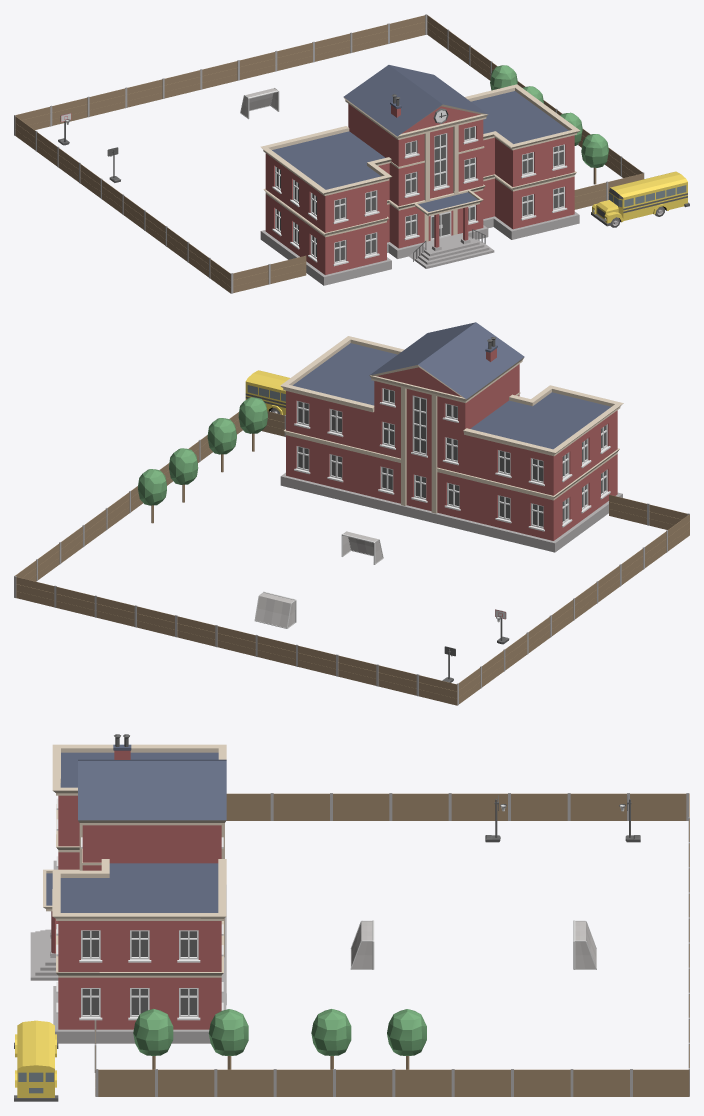
File: School.fbx
The picture shows the model from 3 angles, top to bottom: view 1: azimuth 30°, elevation 25°; view 2: azimuth 150°, elevation 25°; view 3: azimuth 270°, elevation 25°; orthographic projection. The views are drawn at different scales.
Visible parts, largest first — view 1: building-school (1), bus-school-base, tree-round (15), fence-big (29), fence-big (27), fence-big (41), fence-big (20), fence-big (22), fence-big (26), fence-big (21), fence-big (23), fence-big (24) (+20 smaller); view 2: building-school (1), bus-school-base, soccer-gate, tree-round (16), tree-round (18), tree-round (15), tree-round (17), fence-big (31), fence-big (41), fence-big (24), fence-big (27), fence-big (28) (+9 smaller); view 3: building-school (1), bus-school-base, fence-big (8), fence-big (11), fence-big (12), fence-big (36), fence-big (35), fence-big (33), fence-big (10), fence-big (19), fence-big (13), fence-big (15) (+14 smaller).
Boxes of the visible parts, bbox=[...] form: building-school (1): bbox=[260, 65, 580, 285]; bus-school-base: bbox=[591, 171, 689, 226]; tree-round (15): bbox=[581, 134, 608, 184]; fence-big (29): bbox=[89, 87, 127, 116]; fence-big (27): bbox=[164, 69, 202, 98]; fence-big (41): bbox=[268, 255, 306, 284]; fence-big (20): bbox=[352, 23, 389, 52]; fence-big (22): bbox=[277, 41, 314, 70]; fence-big (26): bbox=[127, 78, 164, 107]; fence-big (21): bbox=[390, 14, 427, 43]; fence-big (23): bbox=[315, 32, 352, 61]; fence-big (24): bbox=[202, 60, 239, 89]; building-school (1): bbox=[280, 322, 623, 552]; bus-school-base: bbox=[245, 370, 289, 415]; soccer-gate: bbox=[254, 591, 296, 628]; tree-round (16): bbox=[207, 418, 236, 472]; tree-round (18): bbox=[138, 469, 166, 523]; tree-round (15): bbox=[238, 397, 267, 451]; tree-round (17): bbox=[169, 448, 198, 502]; fence-big (31): bbox=[416, 674, 457, 705]; fence-big (41): bbox=[609, 494, 649, 525]; fence-big (24): bbox=[215, 625, 255, 656]; fence-big (27): bbox=[255, 634, 295, 666]; fence-big (28): bbox=[376, 664, 416, 695]; building-school (1): bbox=[30, 734, 226, 1043]; bus-school-base: bbox=[14, 1020, 58, 1101]; fence-big (8): bbox=[392, 1069, 451, 1096]; fence-big (11): bbox=[451, 1069, 510, 1096]; fence-big (12): bbox=[273, 1069, 332, 1096]; fence-big (36): bbox=[333, 793, 392, 820]; fence-big (35): bbox=[392, 793, 451, 820]; fence-big (33): bbox=[511, 793, 570, 820]; fence-big (10): bbox=[511, 1069, 570, 1096]; fence-big (19): bbox=[570, 1069, 629, 1096]; fence-big (13): bbox=[214, 1069, 273, 1096]; fence-big (15): bbox=[95, 1069, 154, 1096].
Bounding box in the file's own units: 4581 × 1512 × 4554.
